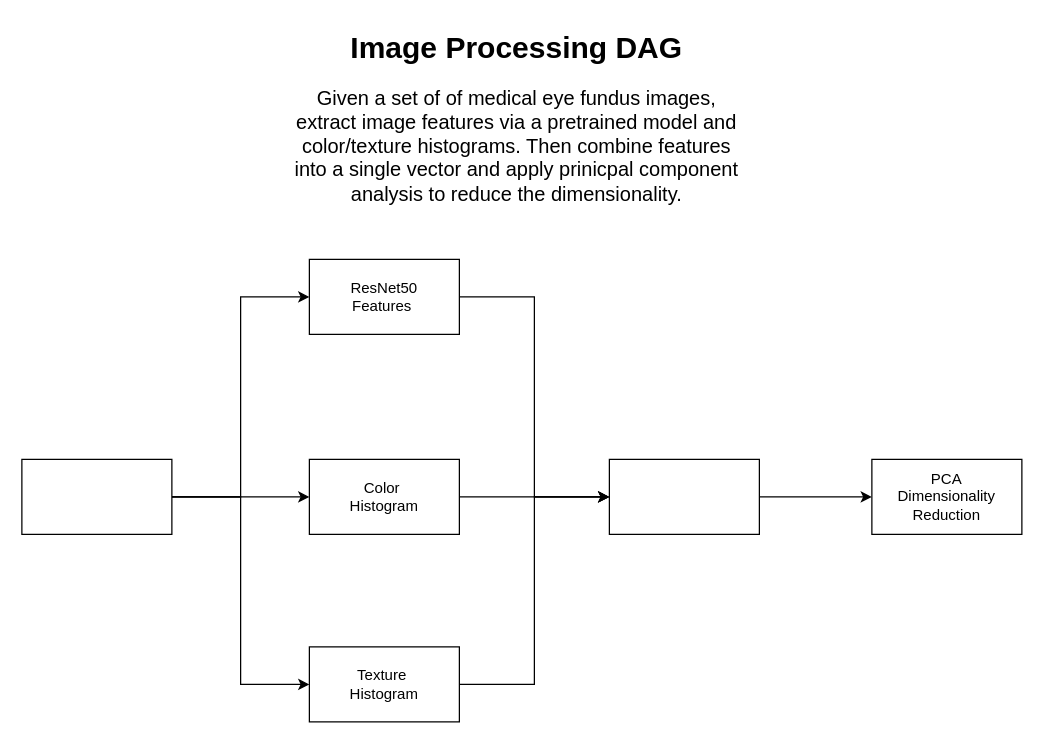
Some shapes in this 1044 by 744 pixel diagram are drawn without their labels. Each missing label, with the centre of its shape:
"Combined Features Vector" goes at (x=683, y=496).
"image" goes at (x=96, y=496).
